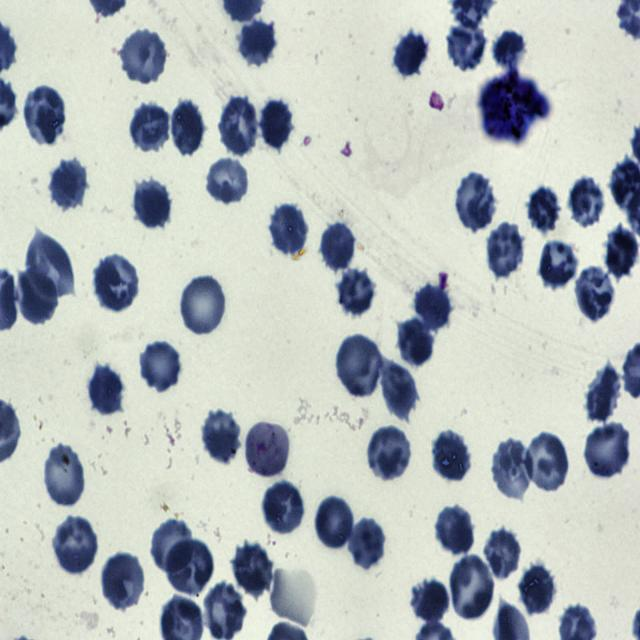red blood cell: (448, 553, 497, 622), (178, 272, 228, 338), (26, 234, 76, 298), (336, 334, 384, 398), (91, 252, 140, 314), (43, 441, 86, 510), (164, 539, 215, 596), (524, 431, 570, 494), (150, 516, 196, 577), (50, 518, 100, 574), (584, 422, 632, 480), (100, 551, 146, 610), (120, 28, 168, 84), (492, 438, 534, 500), (366, 426, 413, 481), (23, 86, 66, 145), (454, 173, 497, 231), (218, 96, 259, 156), (379, 361, 419, 419), (334, 264, 376, 319), (204, 157, 251, 206), (18, 270, 59, 326), (486, 222, 526, 279), (140, 338, 182, 392), (232, 543, 274, 597), (129, 100, 171, 154), (269, 202, 309, 258), (200, 409, 242, 462), (263, 481, 305, 534), (538, 238, 580, 290), (576, 265, 614, 322), (132, 176, 172, 230), (431, 429, 471, 483), (568, 175, 608, 229), (445, 21, 488, 71), (315, 497, 354, 550), (483, 527, 522, 580), (50, 157, 88, 211), (392, 28, 432, 79), (349, 517, 387, 570), (605, 225, 640, 282), (237, 17, 276, 68), (259, 97, 295, 152), (170, 100, 204, 158), (396, 320, 436, 369), (436, 506, 475, 556), (88, 363, 124, 416), (586, 366, 620, 422), (414, 282, 452, 332), (519, 564, 555, 616), (322, 220, 357, 273), (412, 578, 451, 624), (526, 186, 564, 233), (491, 30, 526, 68)
ring: (244, 421, 290, 477)
